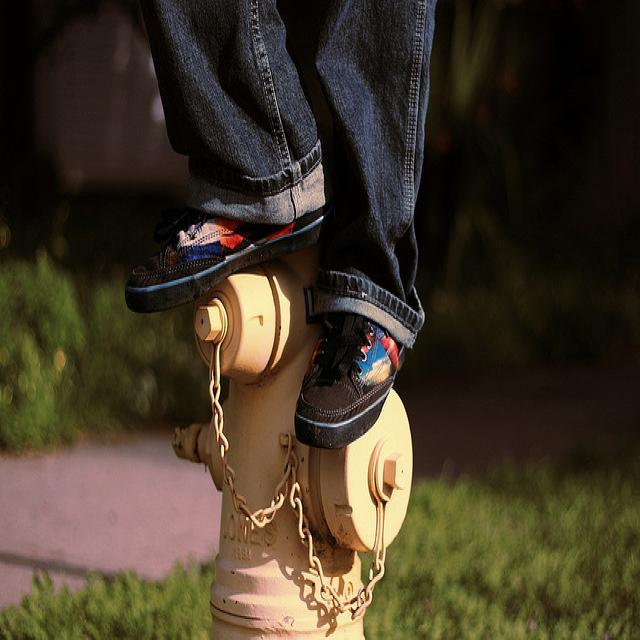fire_hydrant: (169, 243, 413, 640)
